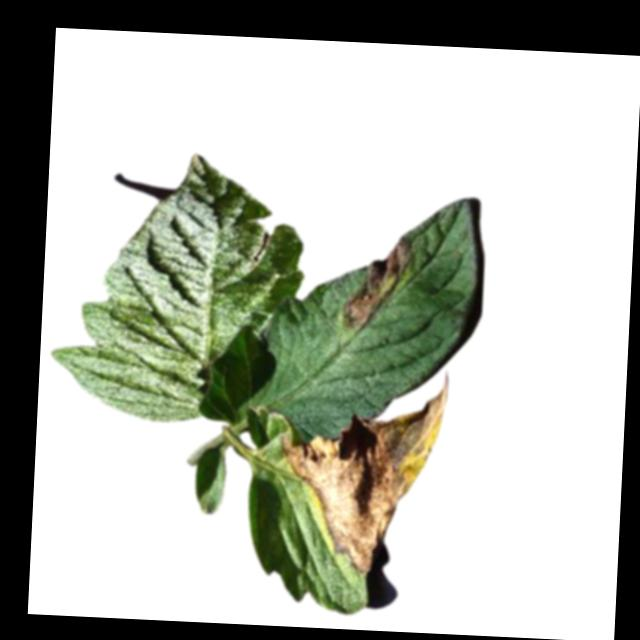Late_blight: (274, 364, 453, 579), (341, 236, 414, 334)
